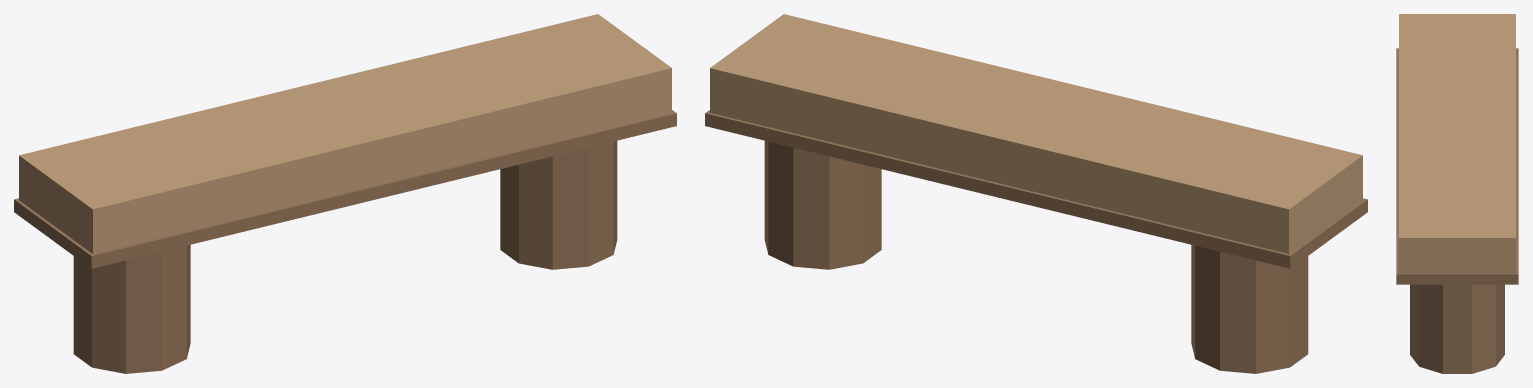
Rendered from log_bench.glb.
3 views of the same model, side by side, from view 1: azimuth 30°, elevation 25°; view 2: azimuth 150°, elevation 25°; view 3: azimuth 270°, elevation 25° (orthographic). The views are drawn at different scales.
Visible parts, largest first — view 1: log_bench; view 2: log_bench; view 3: log_bench.
Boxes of the visible parts, x1,y1,x2,y2 form: log_bench: (14, 14, 676, 373); log_bench: (705, 14, 1367, 373); log_bench: (1396, 14, 1518, 373).
Bounding box in the file's own units: 1.92 × 0.58 × 0.44.
